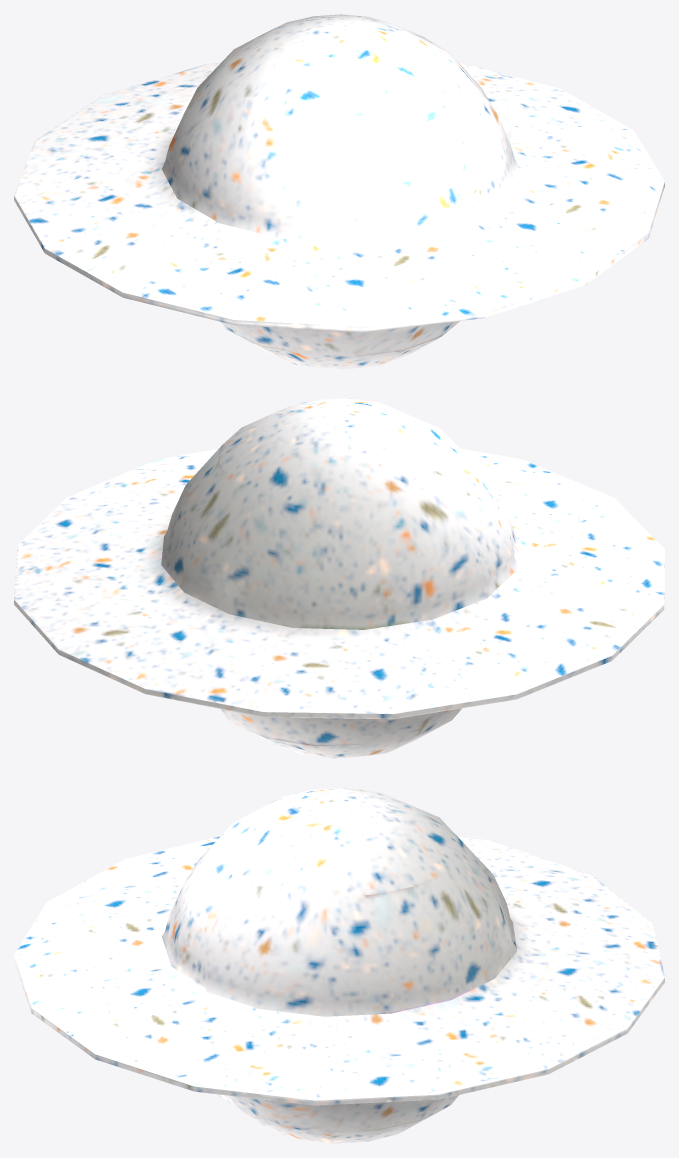
Rendered from WhitePlanet.glb.
3 views of the same model, one above another, from view 1: azimuth 30°, elevation 25°; view 2: azimuth 150°, elevation 25°; view 3: azimuth 270°, elevation 25° (orthographic).
Visible parts, largest first — view 1: Retopo_融球.010; view 2: Retopo_融球.010; view 3: Retopo_融球.010.
Boxes of the visible parts, bbox=[...] form: Retopo_融球.010: bbox=[14, 14, 664, 369]; Retopo_融球.010: bbox=[14, 398, 664, 758]; Retopo_融球.010: bbox=[14, 787, 664, 1143].
Size of what is drawn, in the model's own units: 8.98 by 4.91 by 8.98.
1 material, 1 textured.
